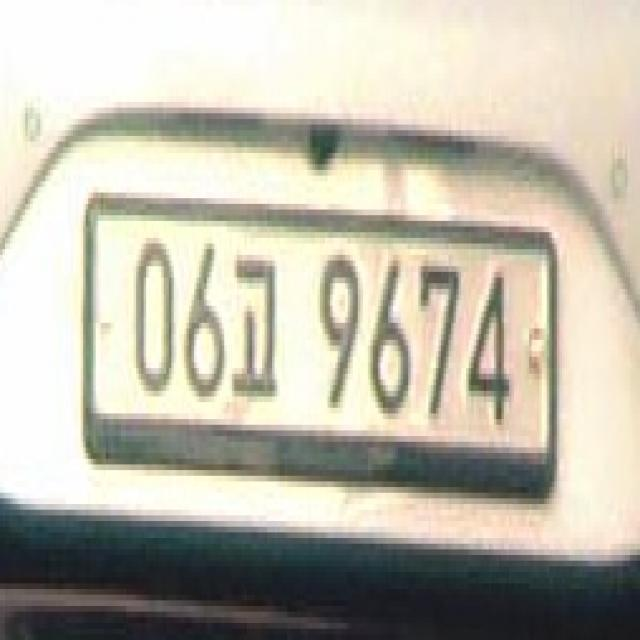0: (130, 234, 176, 404)
4: (467, 269, 517, 436)
6: (183, 237, 228, 413), (369, 250, 414, 426)
7: (418, 257, 463, 422)
9: (313, 234, 363, 416)
go: (232, 248, 285, 414)
license_plate: (77, 177, 575, 525)
